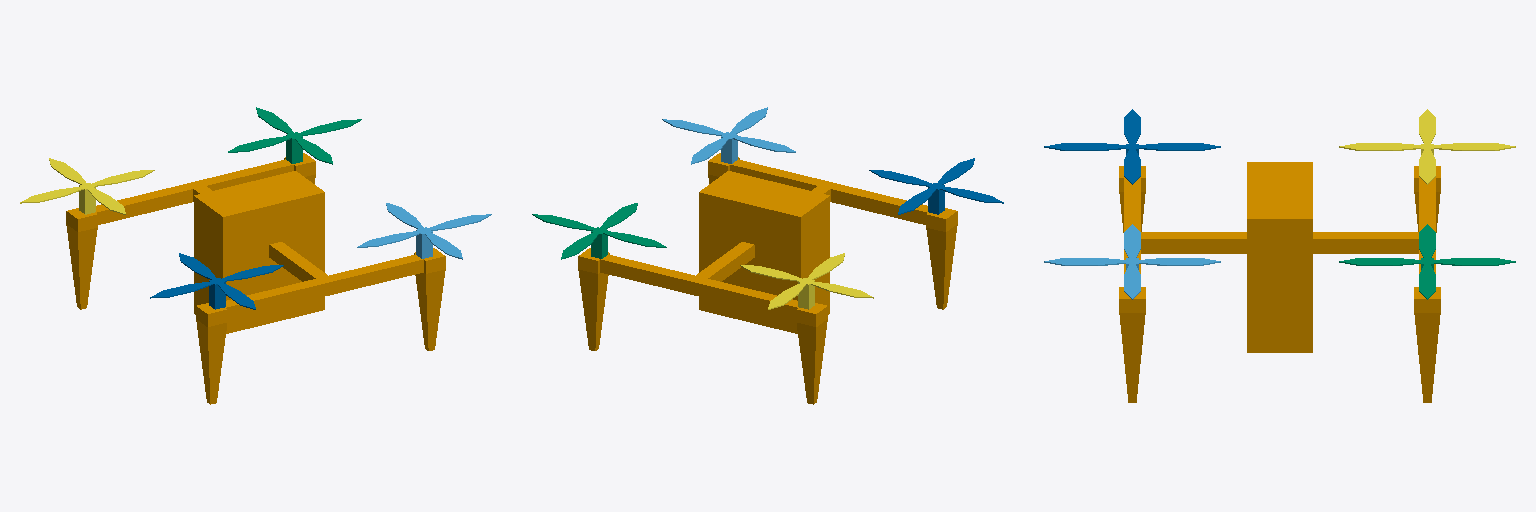
URDF robot description (quadrotor):
<?xml version="1.0"?>
<robot name="quadrotor">

  <!-- main body -->
  <link name="base_link">
    <visual>
      <origin xyz="0 0 0" rpy="0 0 0"/>
      <geometry>
        <mesh filename="stl/simplified_boy.stl"/>
      </geometry>
    </visual>
    <collision>
      <origin xyz="0 0 0" rpy="0 0 0"/>
      <geometry>
        <mesh filename="stl/simplified_boy.stl"/>
      </geometry>
    </collision>
    <inertial>
      <mass value="3.650"/>
      <inertia ixx="0.093" iyy="0.078" izz="0.132" ixy="0" ixz="0" iyz="0"/>
      <origin xyz="0.0096 -0.00008 -0.07219" rpy="0 0 0"/>
    </inertial>
  </link>

  <!-- rotor links -->
  <link name="rotor_1">
    <visual>
      <origin xyz="0 0 0" rpy="0 0 0"/>
      <geometry>
        <mesh filename="stl/simplified_motor.stl"/>
      </geometry>
    </visual>
    <collision>
      <origin xyz="0 0 0" rpy="0 0 0"/>
      <geometry>
        <mesh filename="stl/simplified_motor.stl"/>
      </geometry>
    </collision>
    <inertial>
      <mass value="0.05"/>
      <inertia ixx="0.0001" iyy="0.0001" izz="0.0001" ixy="0" ixz="0" iyz="0"/>
      <origin xyz="0 0 0" rpy="0 0 0"/>
    </inertial>
  </link>

  <link name="rotor_2">
    <visual>
      <origin xyz="0 0 0" rpy="0 0 0"/>
      <geometry>
        <mesh filename="stl/simplified_motor.stl"/>
      </geometry>
    </visual>
    <collision>
      <origin xyz="0 0 0" rpy="0 0 0"/>
      <geometry>
        <mesh filename="stl/simplified_motor.stl"/>
      </geometry>
    </collision>
    <inertial>
      <mass value="0.05"/>
      <inertia ixx="0.0001" iyy="0.0001" izz="0.0001" ixy="0" ixz="0" iyz="0"/>
      <origin xyz="0 0 0" rpy="0 0 0"/>
    </inertial>
  </link>

  <link name="rotor_3">
    <visual>
      <origin xyz="0 0 0" rpy="0 0 0"/>
      <geometry>
        <mesh filename="stl/simplified_motor.stl"/>
      </geometry>
    </visual>
    <collision>
      <origin xyz="0 0 0" rpy="0 0 0"/>
      <geometry>
        <mesh filename="stl/simplified_motor.stl"/>
      </geometry>
    </collision>
    <inertial>
      <mass value="0.05"/>
      <inertia ixx="0.0001" iyy="0.0001" izz="0.0001" ixy="0" ixz="0" iyz="0"/>
      <origin xyz="0 0 0" rpy="0 0 0"/>
    </inertial>
  </link>

  <link name="rotor_4">
    <visual>
      <origin xyz="0 0 0" rpy="0 0 0"/>
      <geometry>
        <mesh filename="stl/simplified_motor.stl"/>
      </geometry>
    </visual>
    <collision>
      <origin xyz="0 0 0" rpy="0 0 0"/>
      <geometry>
        <mesh filename="stl/simplified_motor.stl"/>
      </geometry>
    </collision>
    <inertial>
      <mass value="0.05"/>
      <inertia ixx="0.0001" iyy="0.0001" izz="0.0001" ixy="0" ixz="0" iyz="0"/>
      <origin xyz="0 0 0" rpy="0 0 0"/>
    </inertial>
  </link>

  <!-- rotors to base -->
  <joint name="rotor_1_joint" type="continuous">
    <parent link="base_link"/>
    <child link="rotor_1"/>
    <origin xyz="0.197 -0.22465 0.025" rpy="0 0 0"/>
    <axis xyz="0 0 1"/>
    <limit effort="0.01" velocity="1000"/>
  </joint>

  <joint name="rotor_2_joint" type="continuous">
    <parent link="base_link"/>
    <child link="rotor_2"/>
    <origin xyz="0.197 0.22465 0.025" rpy="0 0 0"/>
    <axis xyz="0 0 1"/>
    <limit effort="0.01" velocity="1000"/>
  </joint>

  <joint name="rotor_3_joint" type="continuous">
    <parent link="base_link"/>
    <child link="rotor_3"/>
    <origin xyz="-0.217 0.22465 0.025" rpy="0 0 0"/>
    <axis xyz="0 0 1"/>
    <limit effort="0.01" velocity="1000"/>
  </joint>

  <joint name="rotor_4_joint" type="continuous">
    <parent link="base_link"/>
    <child link="rotor_4"/>
    <origin xyz="-0.217 -0.22465 0.025" rpy="0 0 0"/>
    <axis xyz="0 0 1"/>
    <limit effort="0.01" velocity="1000"/>
  </joint>

</robot>

--- What the picture shows (computed from the rendered views, not written in the file) ---
The picture shows the robot from 3 angles, left to right: view 1: azimuth 30°, elevation 25°; view 2: azimuth 150°, elevation 25°; view 3: azimuth 270°, elevation 25°; orthographic projection.
Robot: quadrotor — 5 links, 4 joints (4 continuous); root link base_link; default pose: every joint at zero.
Visible links, largest first — view 1: base_link, rotor_2, rotor_3, rotor_4, rotor_1; view 2: base_link, rotor_1, rotor_4, rotor_3, rotor_2; view 3: base_link, rotor_1, rotor_2, rotor_3, rotor_4.
Boxes of the visible links, x1,y1,x2,y2 form: base_link: (66,153,445,404); rotor_2: (228,107,361,164); rotor_3: (20,158,154,214); rotor_4: (150,253,283,309); rotor_1: (357,203,491,259); base_link: (578,153,957,404); rotor_1: (662,107,795,164); rotor_4: (869,158,1003,214); rotor_3: (740,253,873,309); rotor_2: (532,203,666,259); base_link: (1119,162,1440,402); rotor_1: (1044,224,1220,299); rotor_2: (1339,224,1515,299); rotor_3: (1339,109,1515,184); rotor_4: (1044,109,1220,184).
Size in the robot's own frame: 0.6822 by 0.7175 by 0.2555 metres.
Meshes: 2 distinct files referenced, 5 mesh visuals loaded (2 binary STL).
